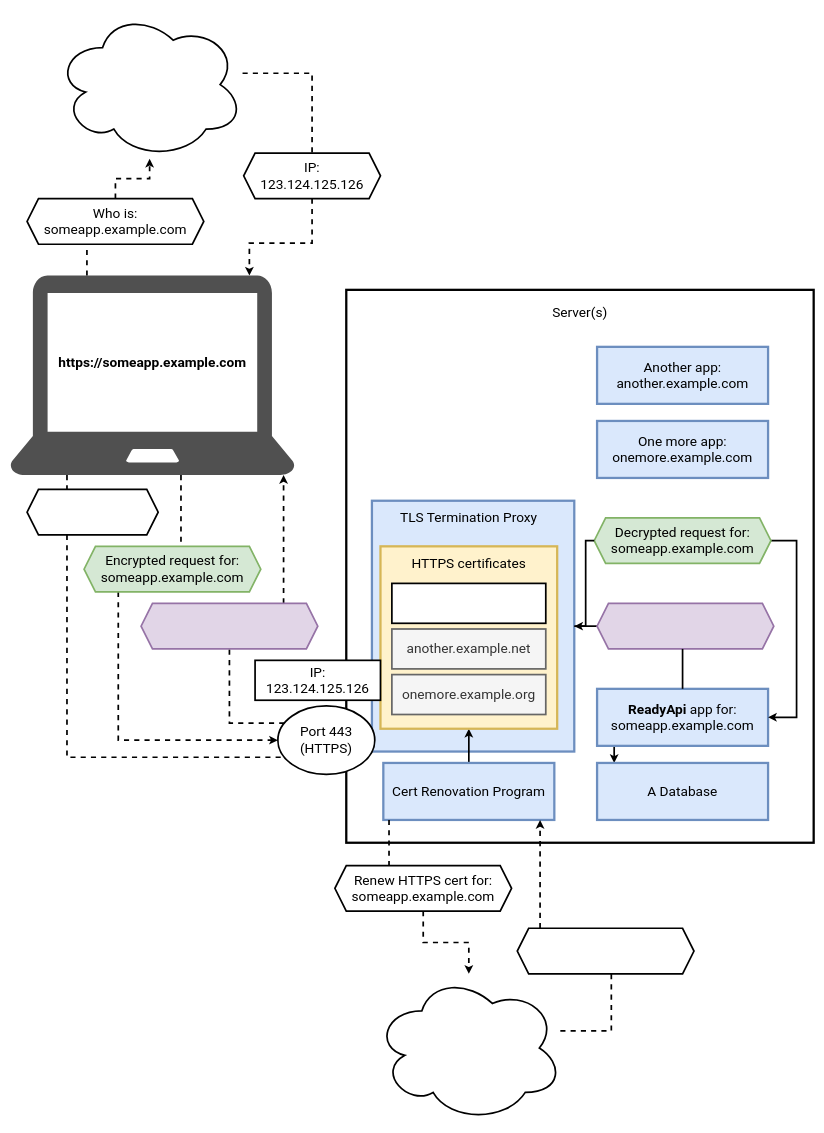
This 824x1133 diagram has some shape labels left out. Each missing label, with the centre of its shape:
"DNS Servers" belongs at point (149, 84).
"Encrypted response from: someapp.example.com" belongs at point (229, 626).
"Let's Encrypt" belongs at point (468, 1048).
"New HTTPS cert for: someapp.example.com" belongs at point (605, 950).
"Plain response from: someapp.example.com" belongs at point (685, 626).
"someapp.example.com" belongs at point (468, 603).
"TLS Handshake" belongs at point (92, 512).
